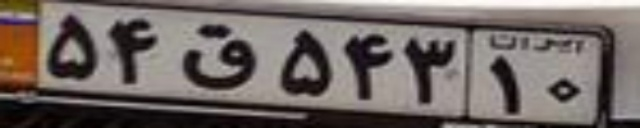0: (541, 77, 584, 103)
1: (485, 54, 521, 113)
3: (402, 36, 461, 104)
4: (105, 17, 161, 84), (341, 32, 391, 99)
5: (272, 28, 334, 95), (41, 12, 97, 80)
ghaf: (180, 22, 254, 90)
